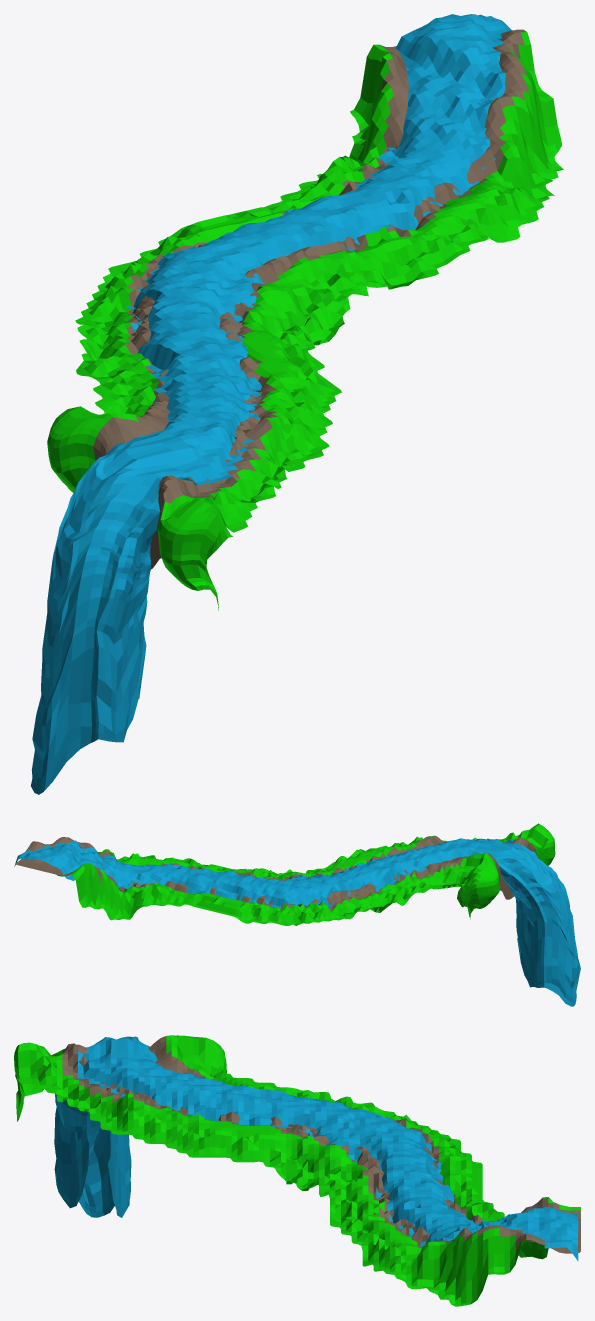
The model's file is theRiverTemplate.fbx.
3 renders of one model, top to bottom at view 1: azimuth 30°, elevation 25°; view 2: azimuth 150°, elevation 25°; view 3: azimuth 270°, elevation 25°, orthographic. The views are drawn at different scales.
Parts seen in each view (by area): view 1: Plane, Plane.003; view 2: Plane, Plane.003; view 3: Plane.003, Plane.
Part boxes in pixels (x1,y1,x2,y2): Plane: [31, 14, 511, 794]; Plane.003: [47, 29, 563, 610]; Plane: [14, 838, 580, 1006]; Plane.003: [16, 823, 555, 925]; Plane.003: [14, 1035, 580, 1306]; Plane: [54, 1036, 578, 1261].
Size of the model in its own units: 2847 by 1242 by 2429.
